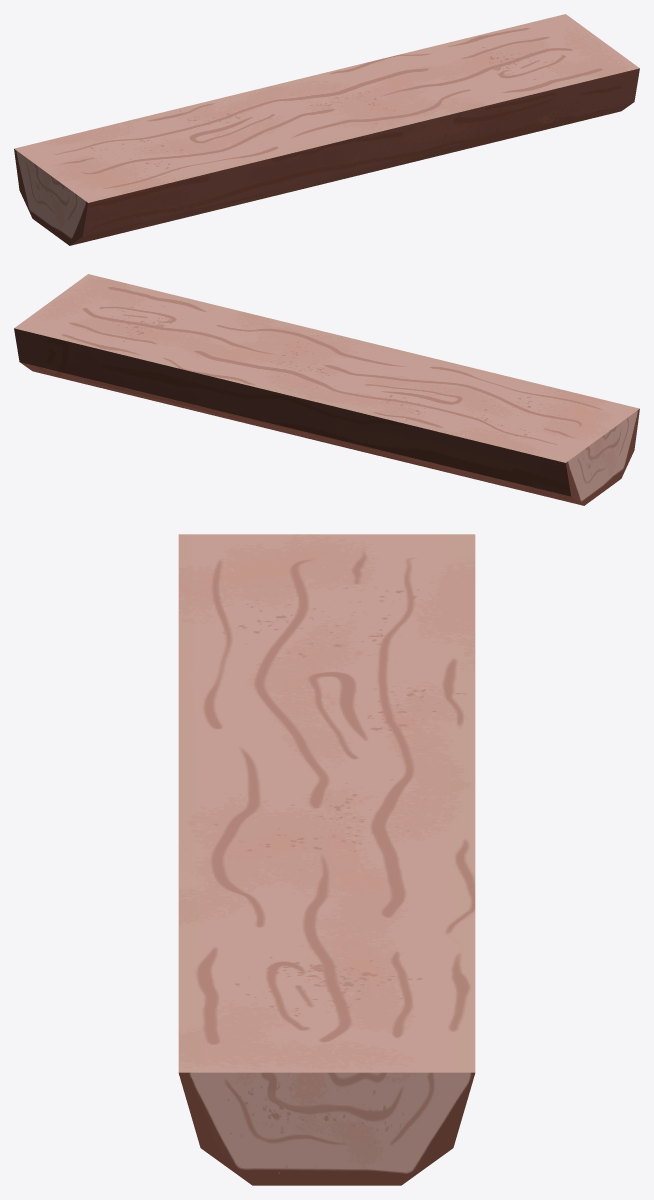
The model's file is SM_log.fbx.
3 views of the same model, one above another, from view 1: azimuth 30°, elevation 25°; view 2: azimuth 150°, elevation 25°; view 3: azimuth 270°, elevation 25° (orthographic). The views are drawn at different scales.
Visible parts, largest first — view 1: log; view 2: log; view 3: log.
Boxes of the visible parts, x1,y1,x2,y2 form: log: [14, 14, 639, 245]; log: [14, 274, 639, 505]; log: [178, 534, 475, 1185].
Bounding box in the file's own units: 34.75 × 3.4 × 8.1.
